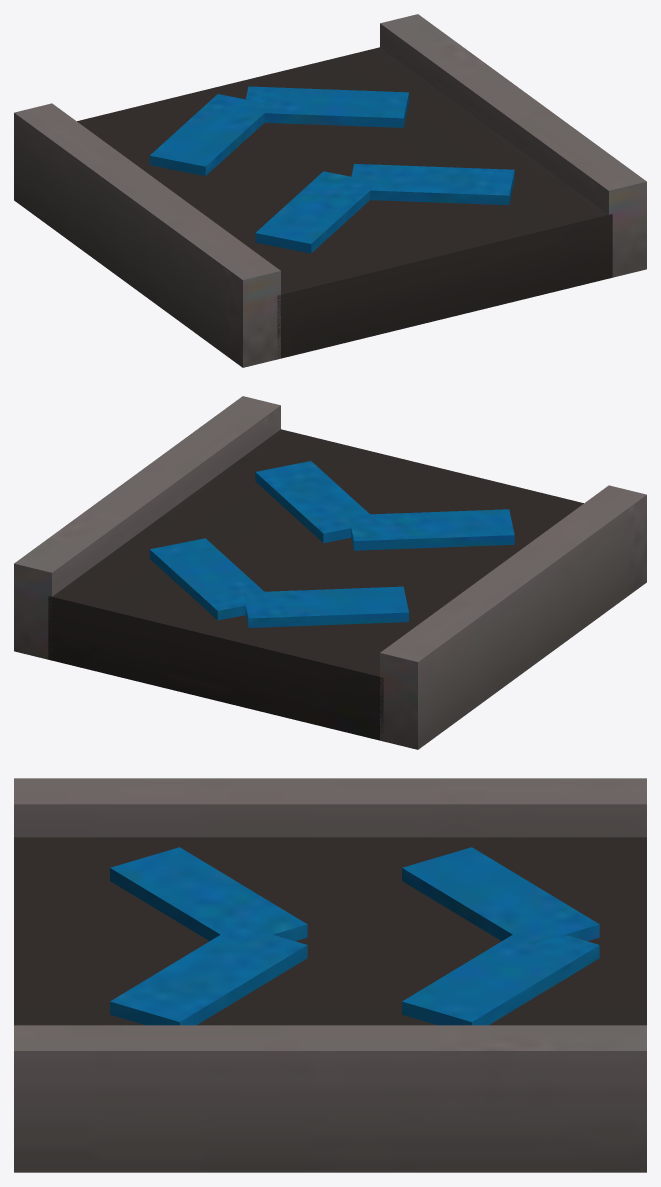
The model's file is express-transport-belt.glb.
3 views of the same model, one above another, from view 1: azimuth 30°, elevation 25°; view 2: azimuth 150°, elevation 25°; view 3: azimuth 270°, elevation 25° (orthographic). The views are drawn at different scales.
Visible parts, largest first — view 1: express-transport-belt; view 2: express-transport-belt; view 3: express-transport-belt.
Boxes of the visible parts, bbox=[...] form: express-transport-belt: bbox=[14, 14, 646, 367]; express-transport-belt: bbox=[14, 396, 646, 749]; express-transport-belt: bbox=[14, 778, 646, 1172].
Bounding box in the file's own units: 0.265 × 0.055 × 0.26.
Materials: 1 (1 with a texture image).
